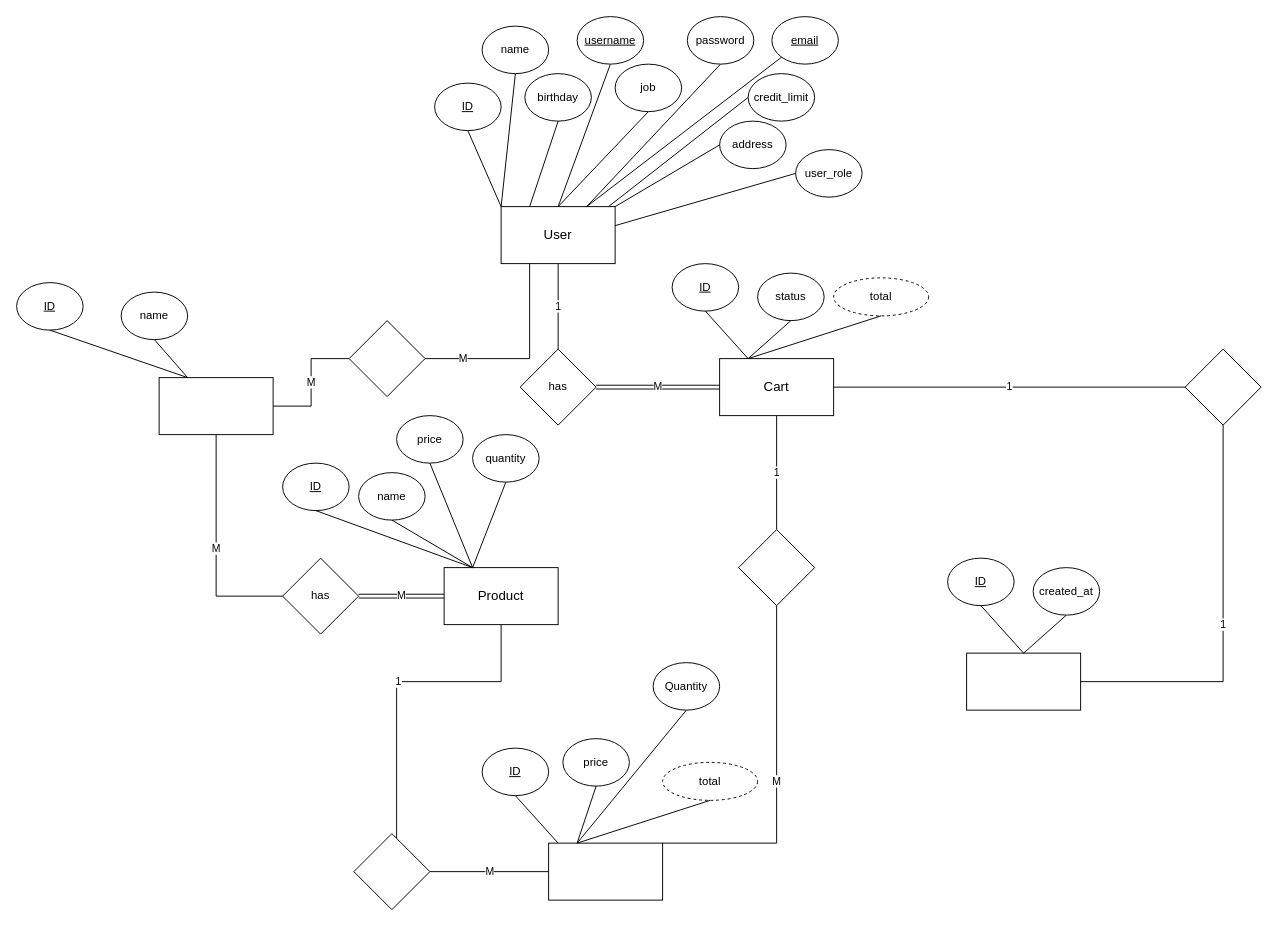
Image size: 1278x926. Some labels were removed from this diagram. Here are the shapes that lost their labels. From the top down, the centre of each, then its label:
At (x=386, y=358): "interests".
At (x=215, y=406): "Categroy".
At (x=1222, y=386): "purchace".
At (x=776, y=567): "contain".
At (x=1023, y=681): "Order".
At (x=391, y=871): "is".
At (x=605, y=871): "cart_items".
